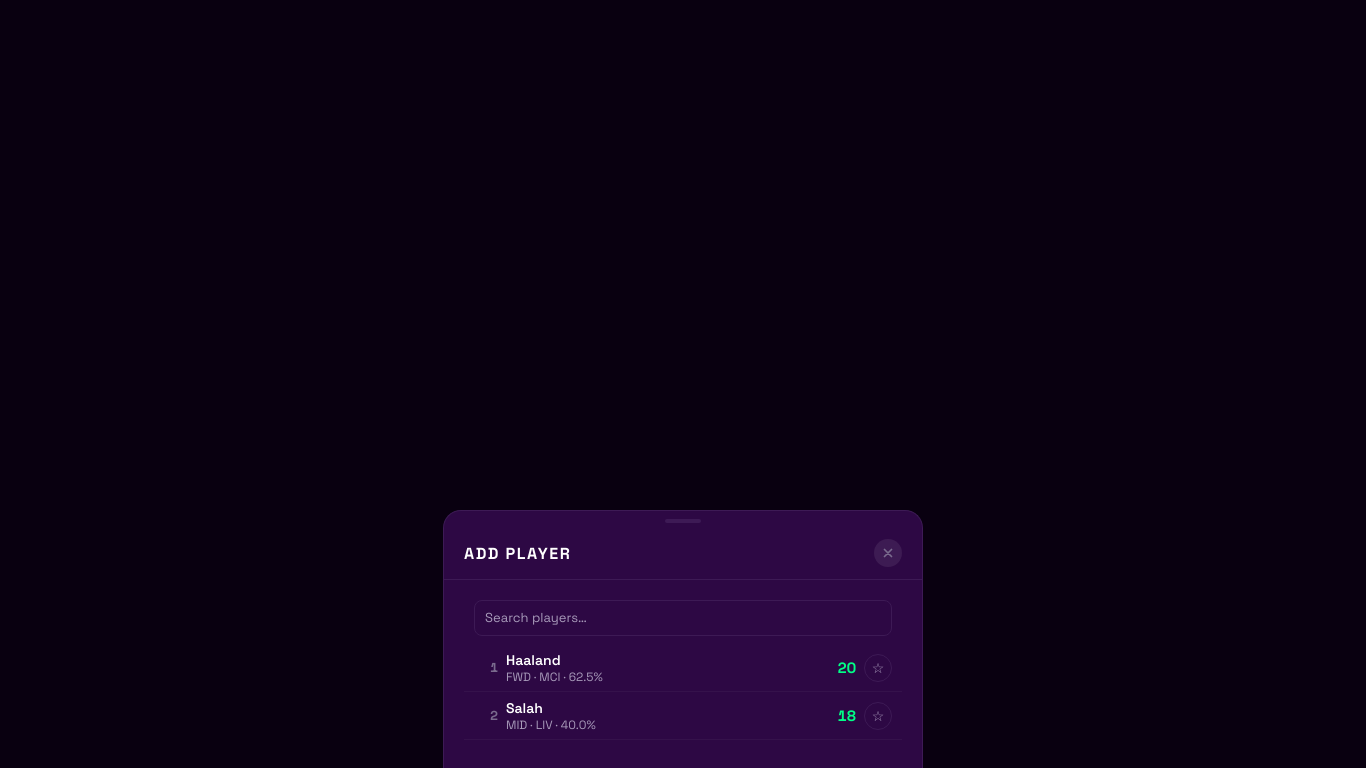
AddPlayerSheet › filters players by name
Type "Sal" into the search field at (683, 618), box [474,600,892,636]
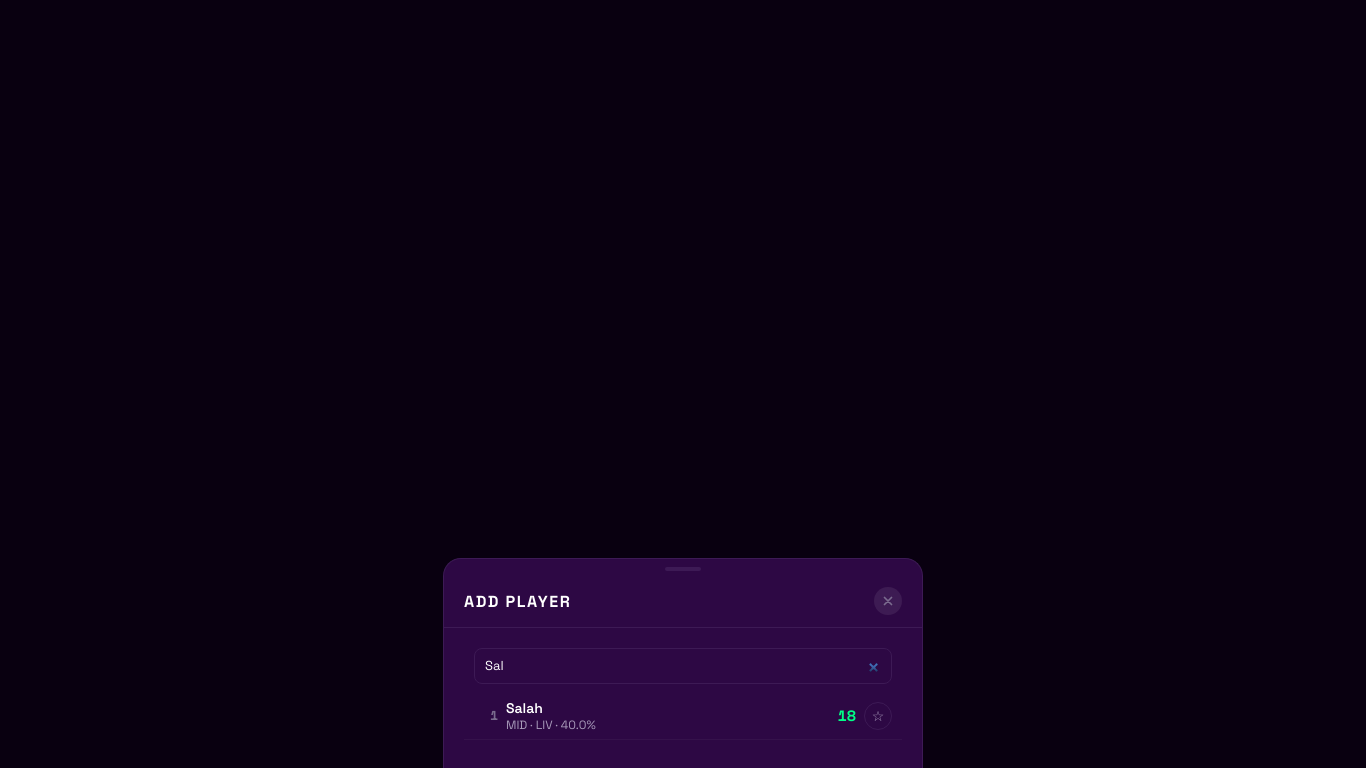
Expected: the text "Salah" is shown, [506,699,543,717]
Expected: the text "Haaland" is gone
